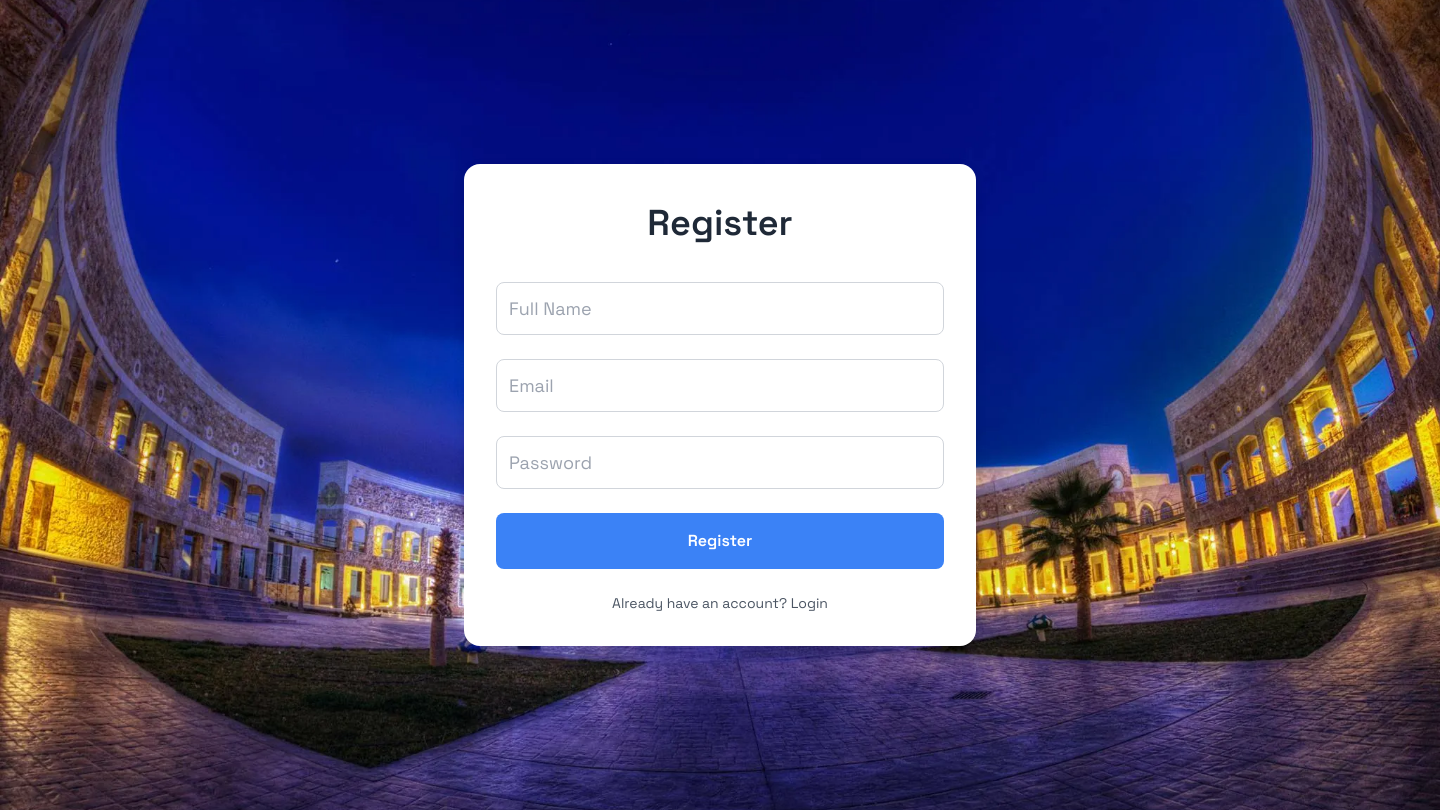
Test: RegisterForm › shows error if fields are empty
Click the button "Register". click: (720, 541)
box: left=496, top=513, right=944, bottom=569
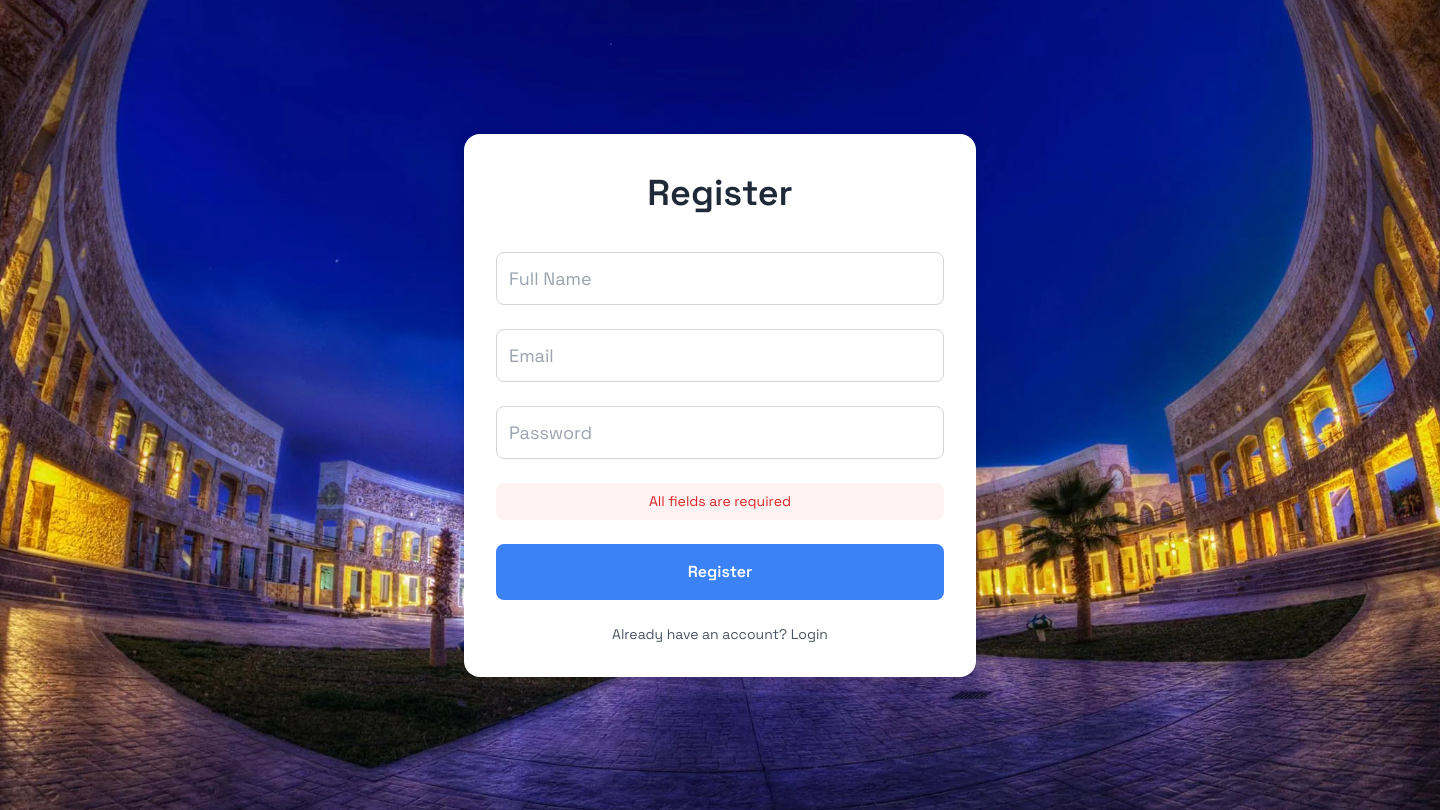
Check: the text "All fields are required" is shown, box left=496, top=482, right=944, bottom=520
